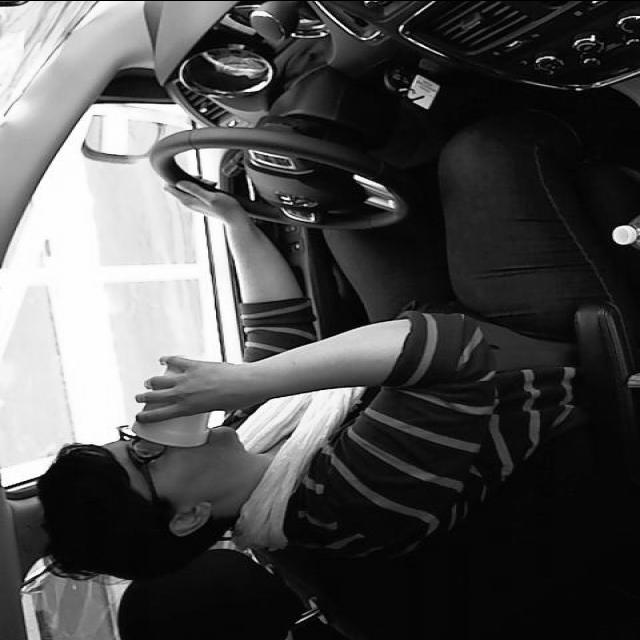drinking: (126, 355, 228, 447)
